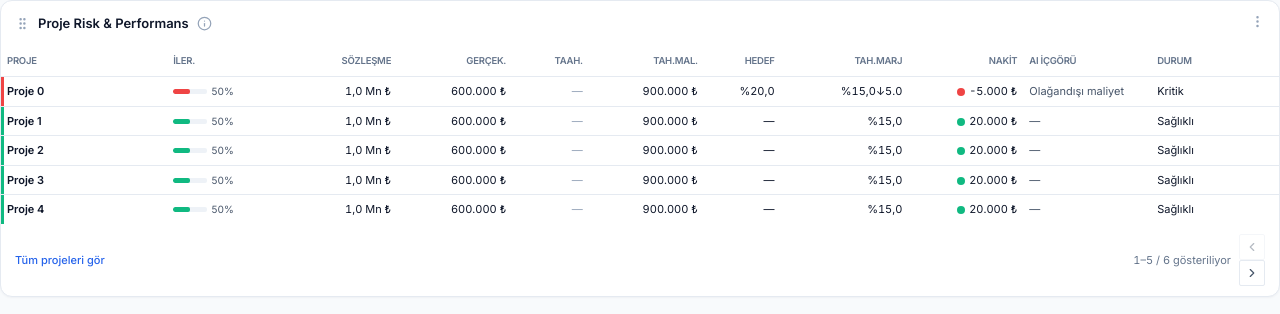
it: ProjectRiskTable (CR-029-E) › paginates (5 per page) with the next arrow
The width and height of the screenshot is (1280, 314).
expect the text "Proje 0" is shown: met, box [1,77,167,106]
expect the text "Proje 5" is not shown: met
Click the button named "Sonraki" at (1252, 273), box [1239,260,1265,286]
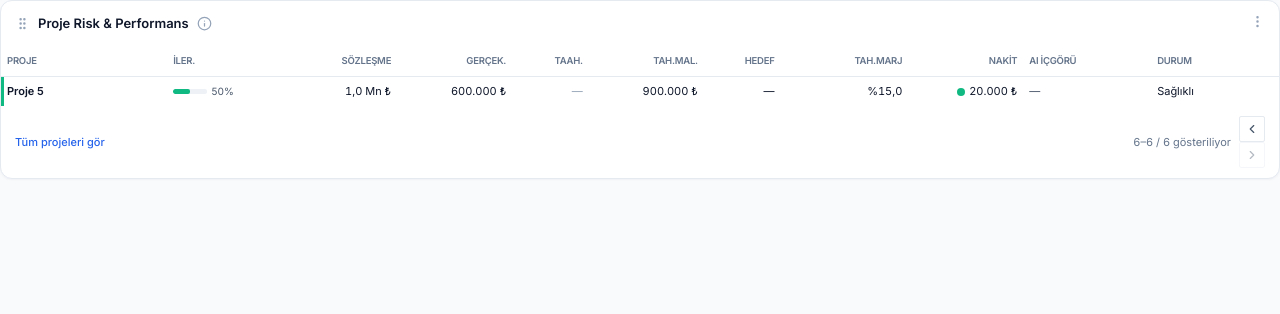
expect the text "Proje 5" is shown: met, box [1,77,167,106]
